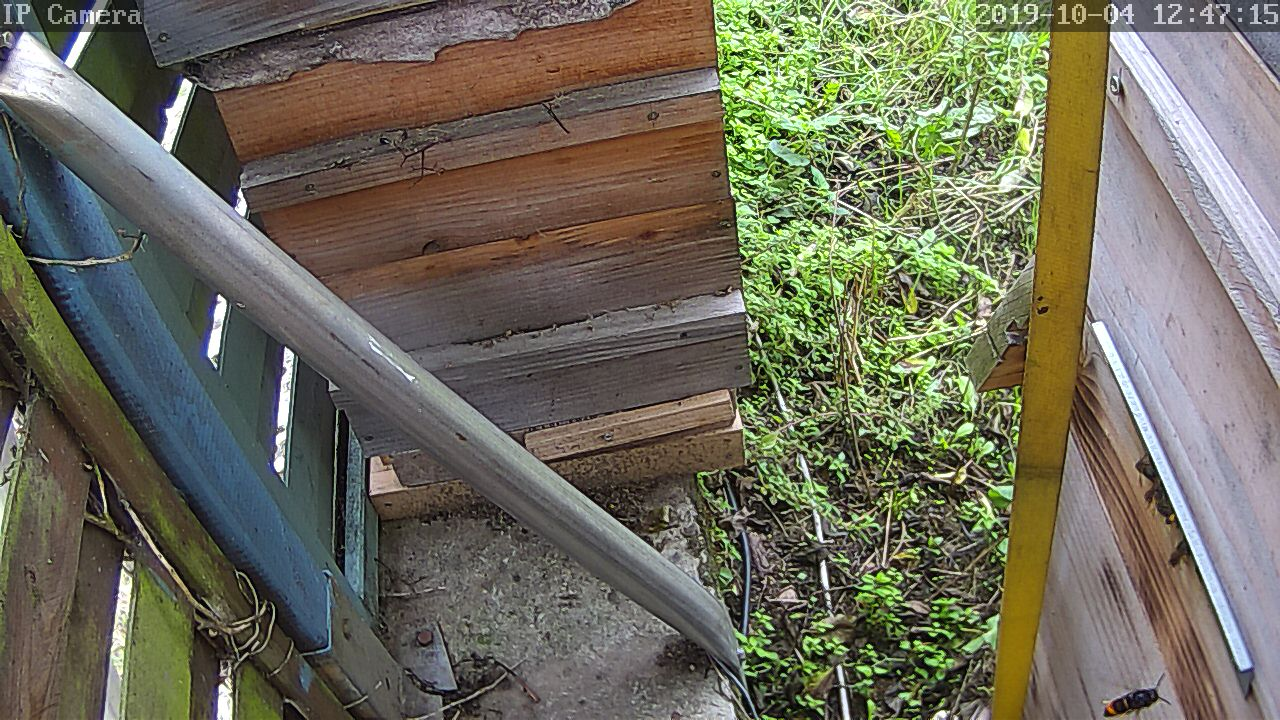bee: (1156, 527, 1197, 571), (1138, 474, 1176, 519), (1138, 462, 1171, 508)
hornet: (1090, 675, 1160, 718), (993, 323, 1023, 370)
